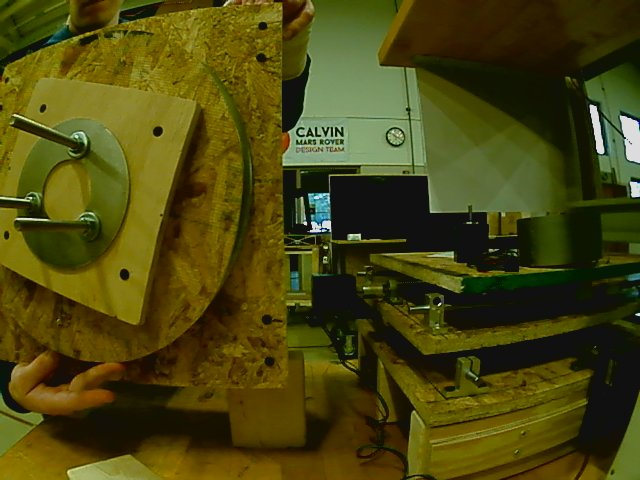bolt: (75, 211, 103, 246), (65, 129, 92, 162), (21, 189, 44, 219)
